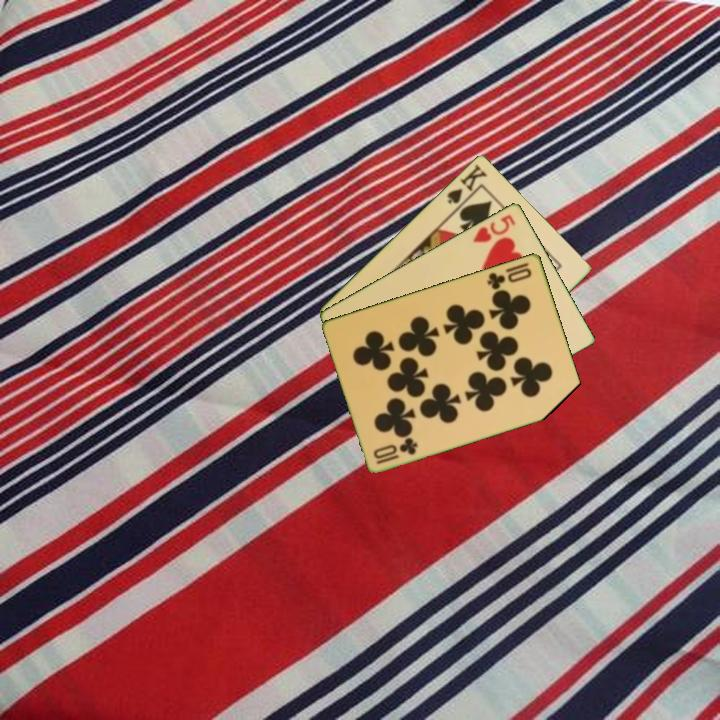10c: (370, 434, 421, 467), (483, 264, 535, 292)
5h: (469, 211, 519, 245)
Ks: (443, 160, 490, 213)
